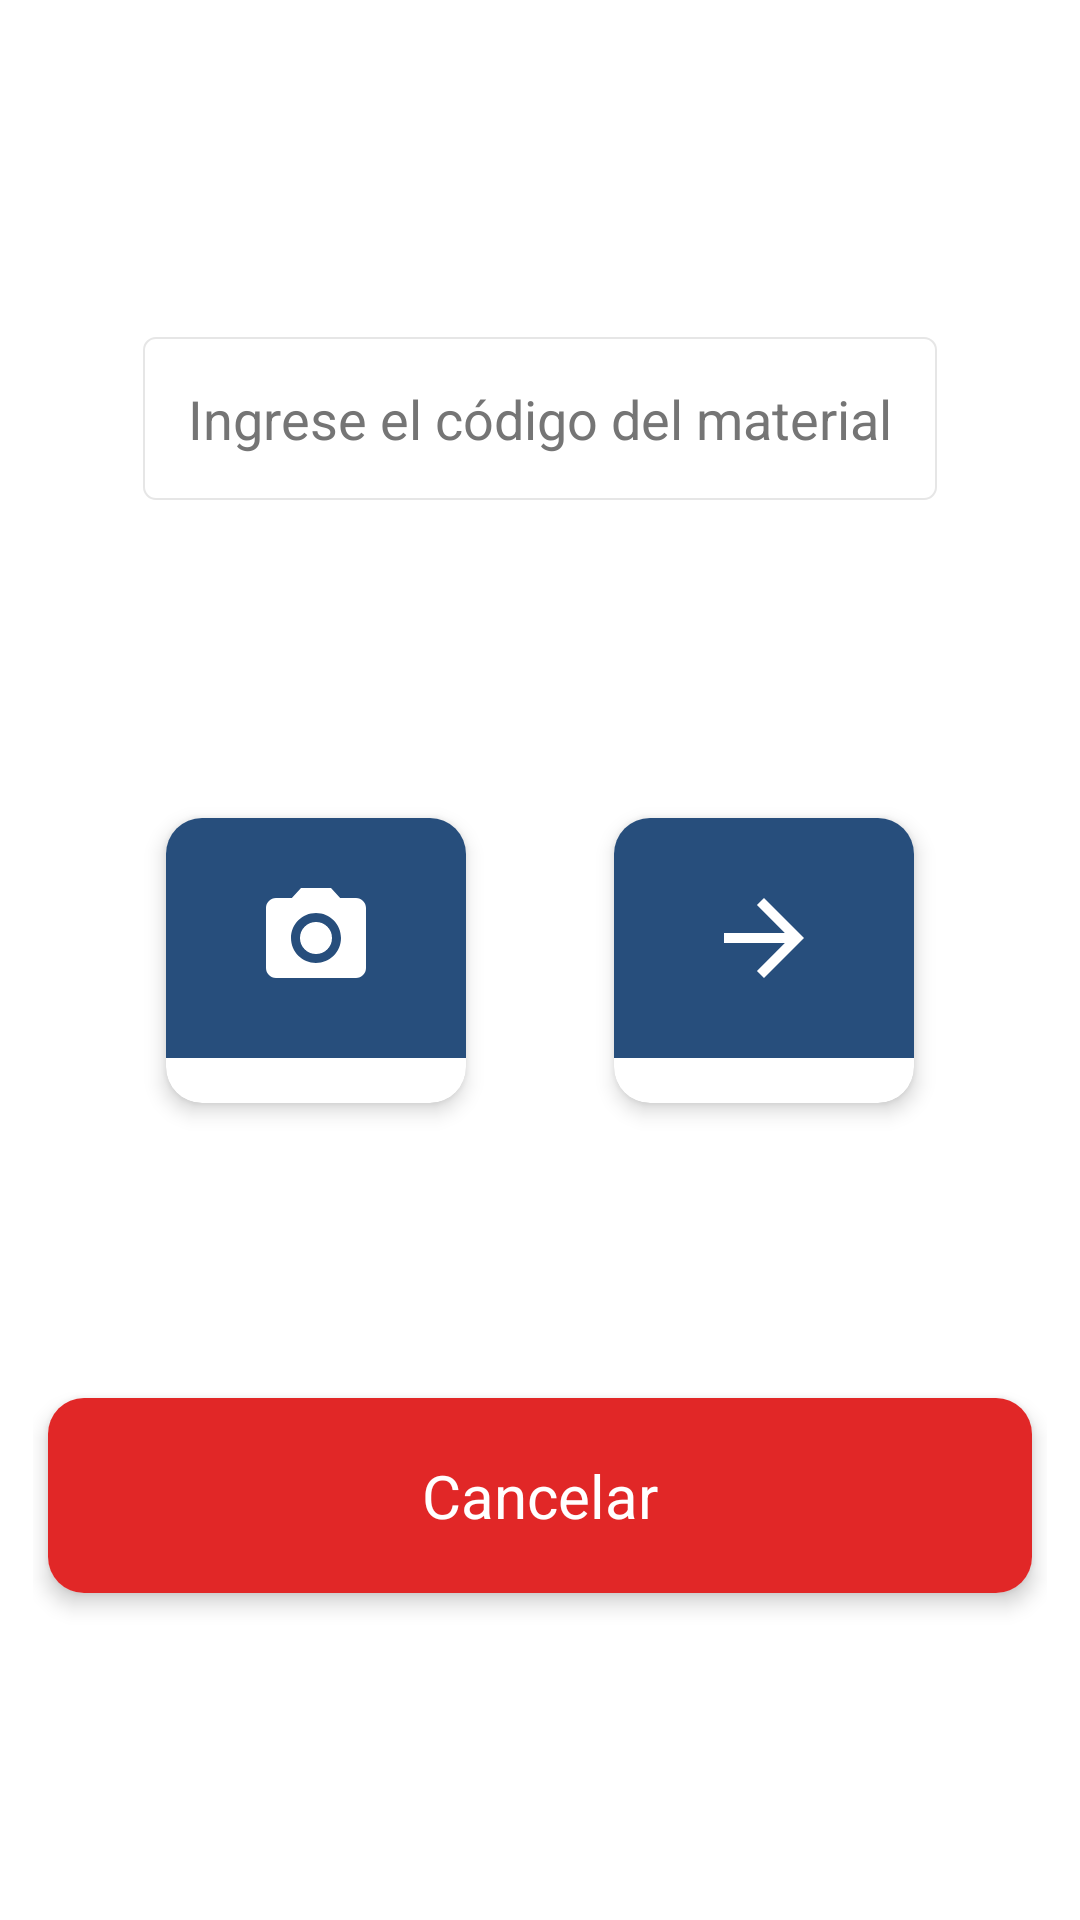

Locate icon controls on the screen. Image size 1080x1920, boxes as {"x1": x1, "y1": y1, "x2": x2, "y2": y2}.
camera qr: {"x1": 266, "y1": 888, "x2": 366, "y2": 978}
